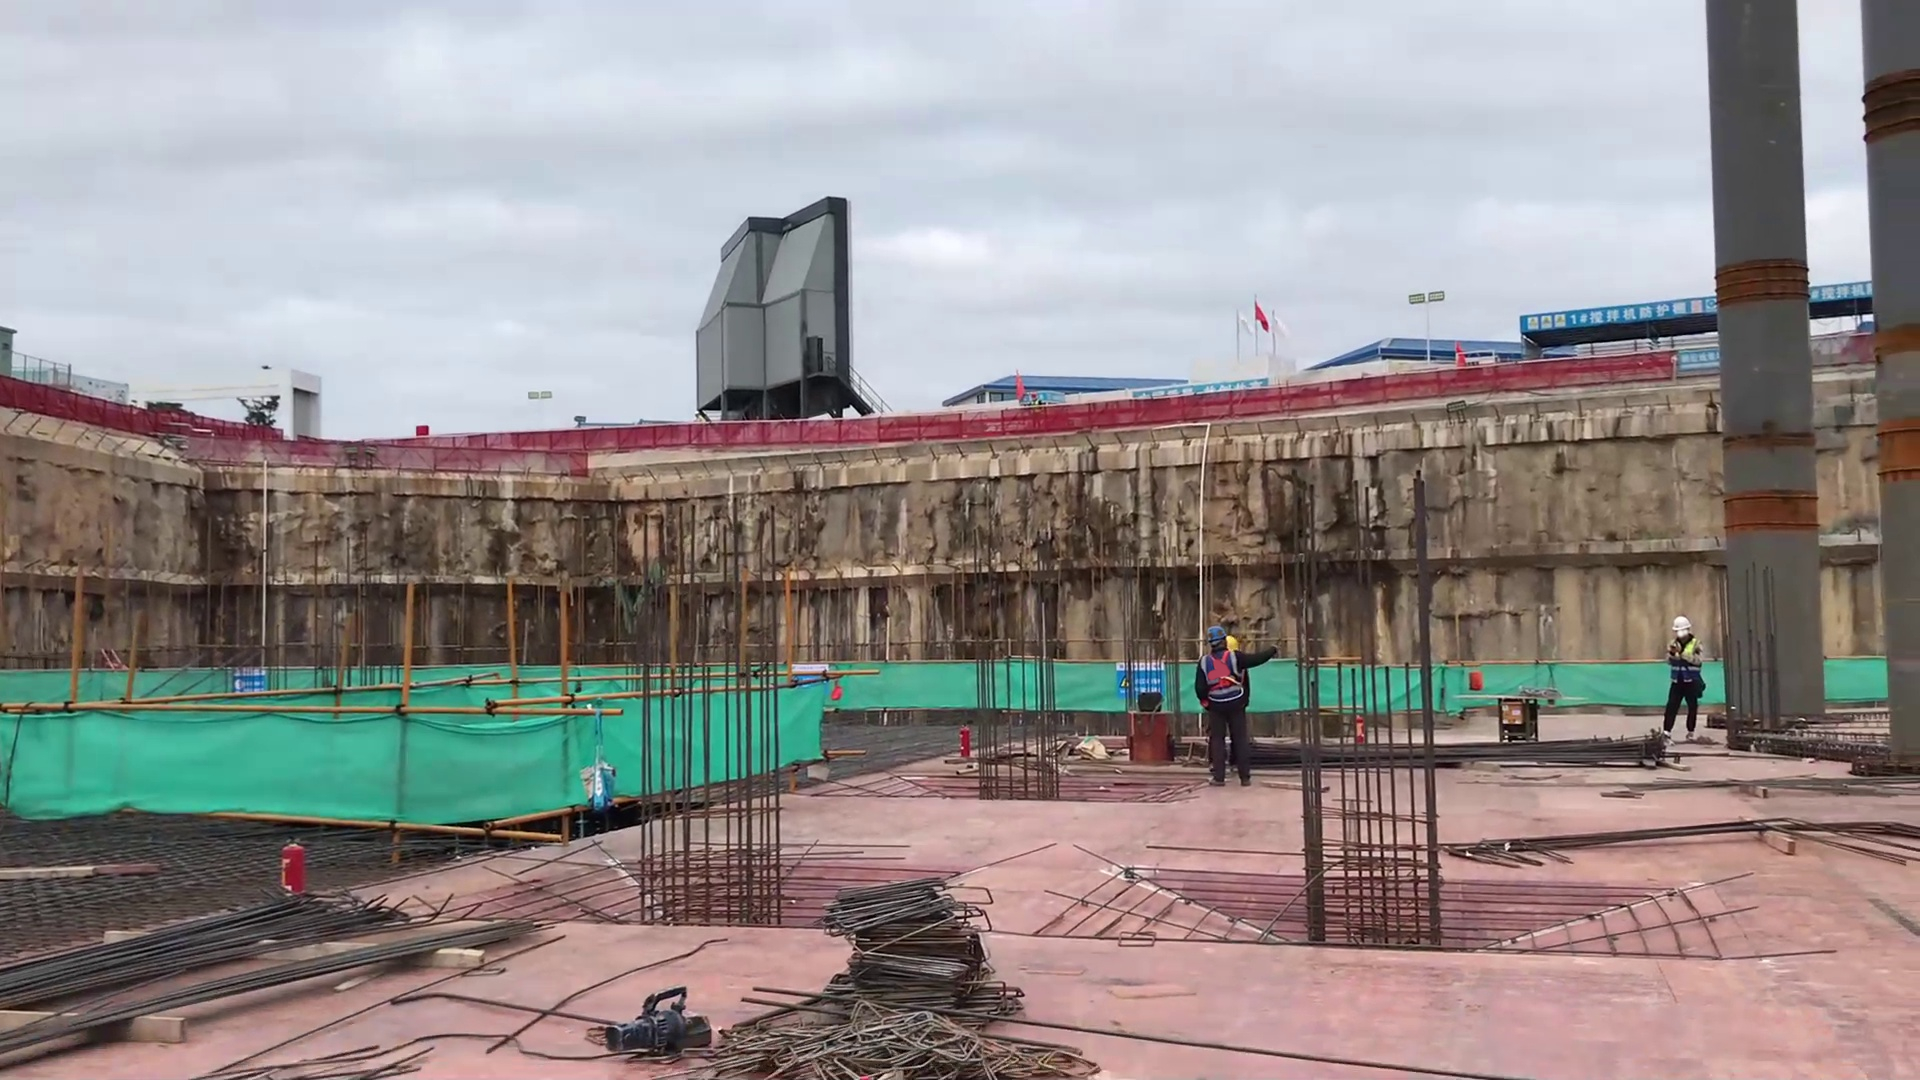cutter: (1493, 687, 1547, 752)
fence: (419, 349, 1723, 438), (2, 370, 285, 463), (204, 442, 586, 487)
helmet: (1672, 613, 1692, 637), (1205, 628, 1223, 645), (1227, 636, 1242, 654), (1029, 389, 1039, 398)
person: (1186, 619, 1272, 795), (1660, 608, 1705, 738), (1021, 385, 1043, 405)
rebar: (9, 895, 558, 1031), (1177, 728, 1670, 785)
slogan: (1131, 379, 1272, 403), (1108, 667, 1170, 703), (1670, 347, 1726, 378), (226, 662, 267, 695)
vest: (1196, 654, 1255, 706), (1661, 638, 1708, 678)
